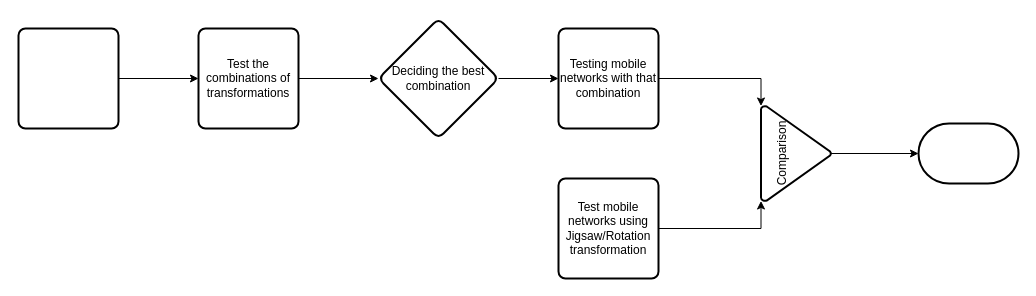
This 1036x296 diagram has some shape labels left out. The box of each missing label's shape, as (x1, y1, x2, y2) in pixels:
Results and reporting: (917, 122, 1019, 184)
Test transformations one by one: (17, 27, 119, 129)
